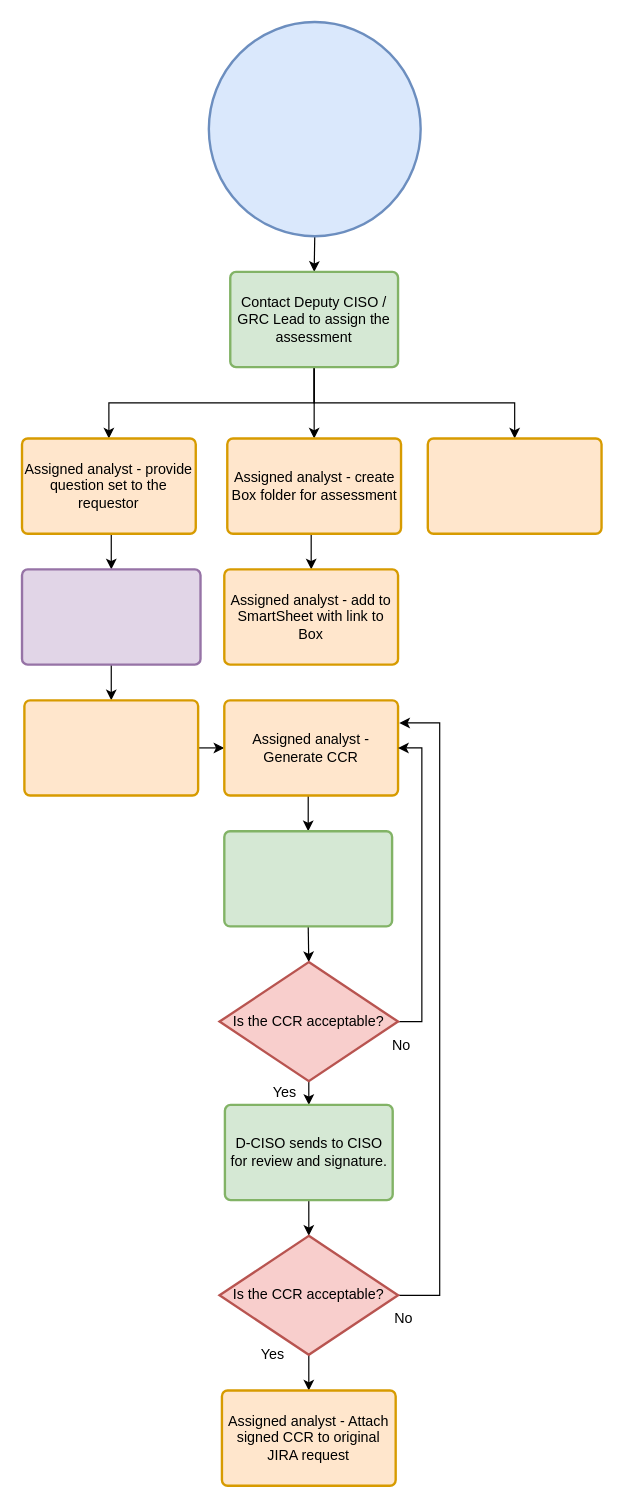
The diagram is 622 pixels wide and 1507 high, and some of its shapes have lost their labels. Each missing label, with the centre of its shape:
Assigned analyst - note in JIRA that GRC assessment has been assigned.: the point at 514,485
Assigned analyst - Score risk: the point at 111,747
Request submitted to UW IT Project Intake Process. GRC Team notified via email.: the point at 314,128
Requestor - provides responses to assessment questions.: the point at 110,616
Send draft CCR to D-CISO for review: the point at 308,878
